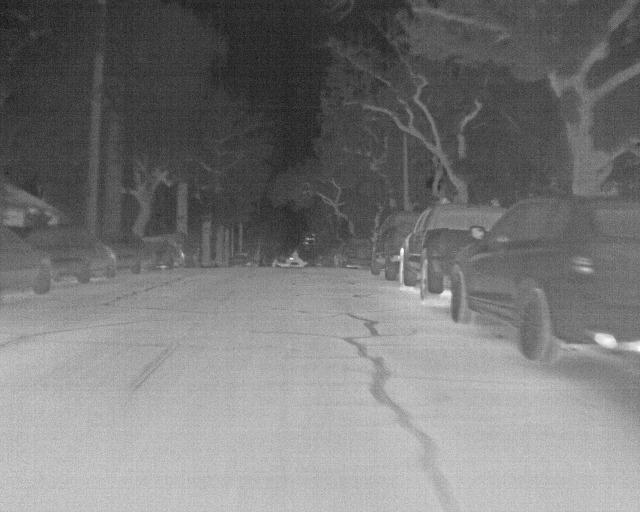car: (451, 197, 639, 364), (397, 202, 508, 306), (25, 224, 116, 284), (369, 207, 424, 283), (0, 225, 53, 296), (100, 232, 153, 278), (143, 235, 187, 271), (339, 237, 369, 271), (230, 252, 249, 266)
